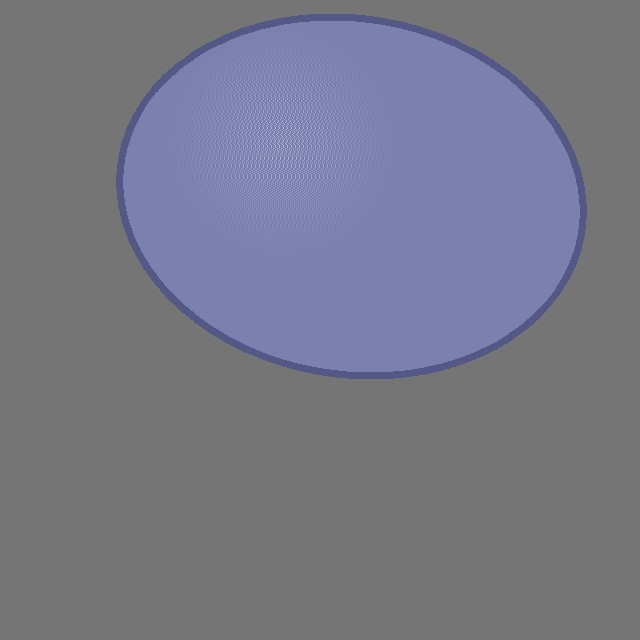lens: (121, 17, 581, 375)
